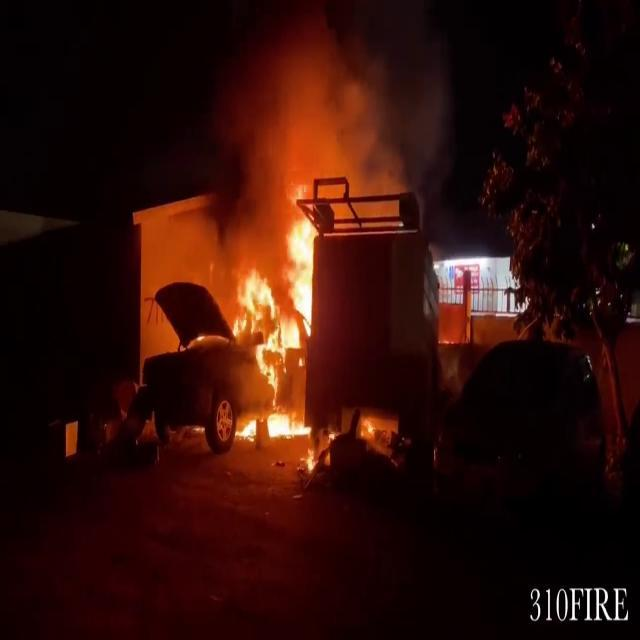Fire: (228, 190, 329, 444)
Smoke: (198, 1, 442, 194)
